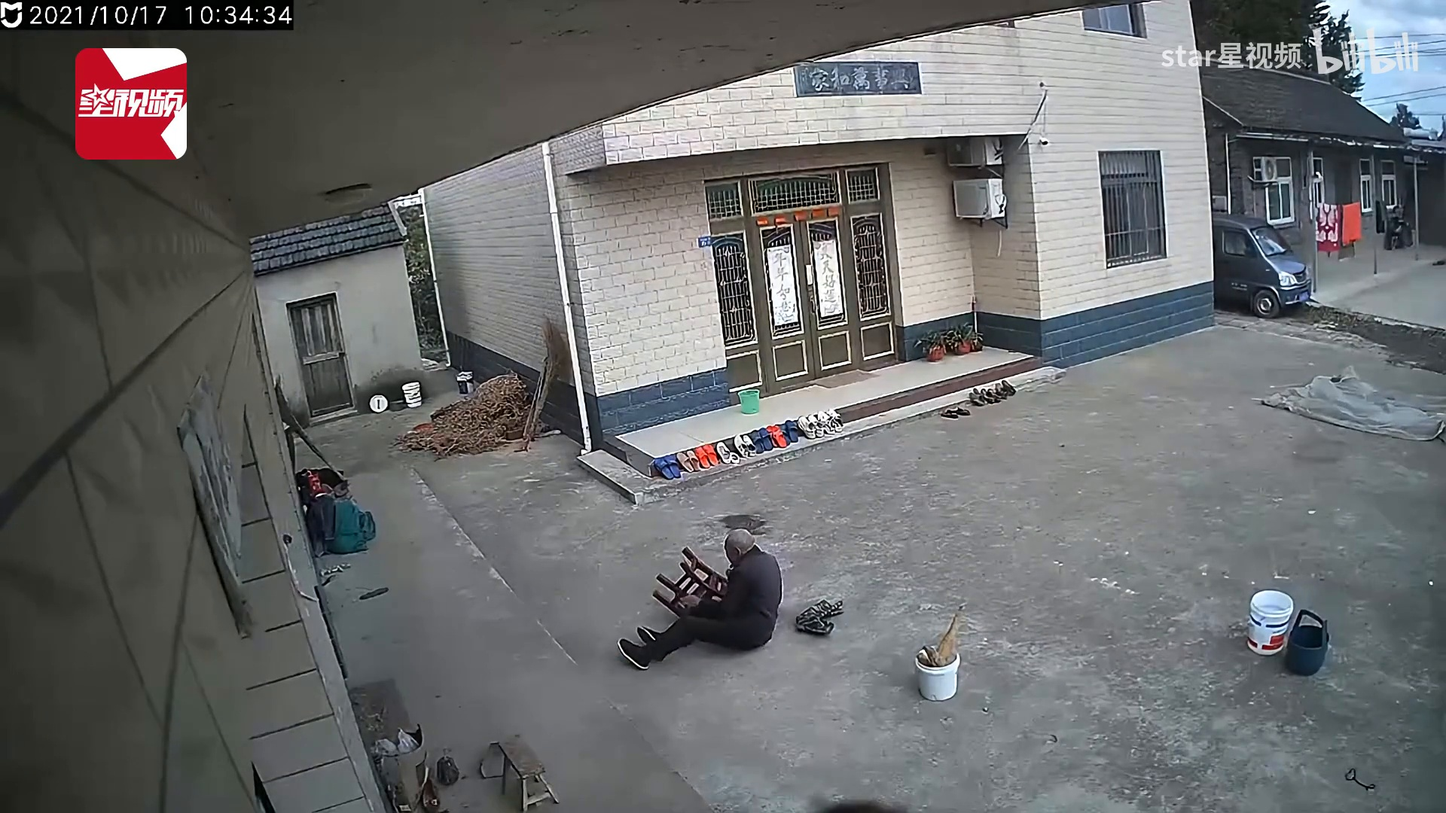half_up: (615, 527, 782, 670)
